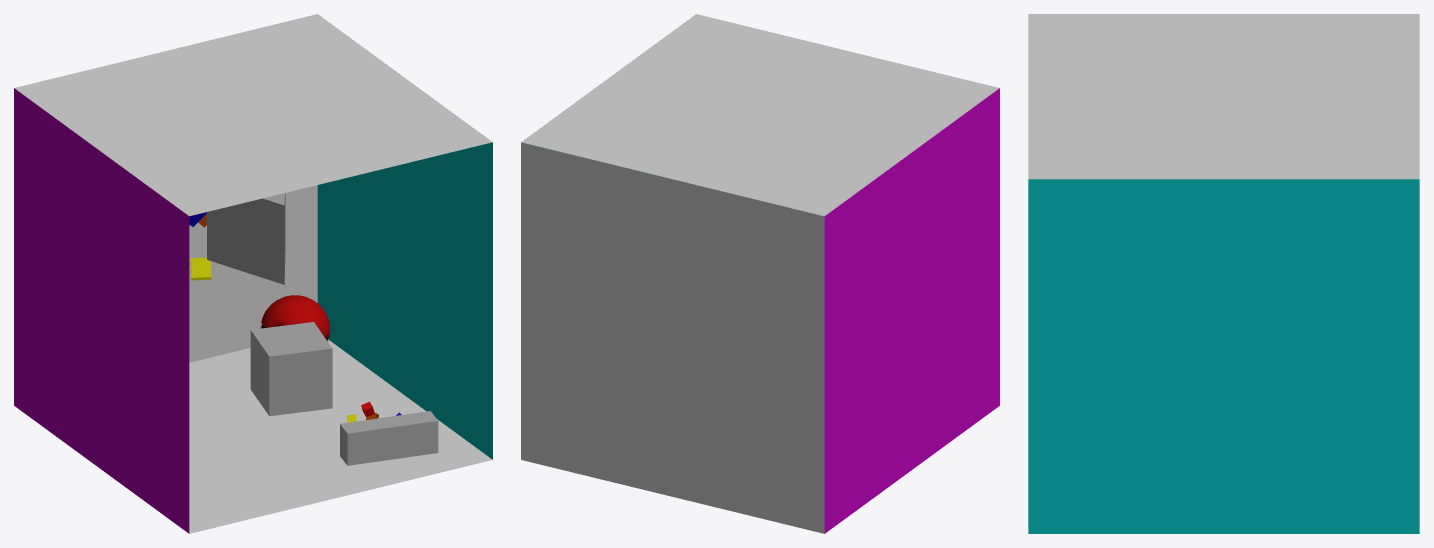
Rendered from finalscene.obj.
3 renders of one model, left to right at view 1: azimuth 30°, elevation 25°; view 2: azimuth 150°, elevation 25°; view 3: azimuth 270°, elevation 25°, orthographic. The views are drawn at different scales.
Visible parts, largest first — view 1: Plane_left_Plane.002, Plane_top_Plane.005, Plane_right_Plane.004, Plane_bottom_Plane, Plane_back_Plane.001, Cube.002, Prism_Cube.001, Cube.004, Sphere.004; view 2: Plane_back_Plane.001, Plane_left_Plane.002, Plane_top_Plane.005; view 3: Plane_right_Plane.004, Plane_top_Plane.005.
Boxes of the visible parts, x1,y1,x2,y2 form: Plane_left_Plane.002: (14, 88, 189, 533); Plane_top_Plane.005: (14, 14, 492, 216); Plane_right_Plane.004: (317, 142, 492, 459); Plane_bottom_Plane: (189, 340, 492, 533); Plane_back_Plane.001: (189, 185, 317, 362); Cube.002: (250, 322, 332, 416); Prism_Cube.001: (207, 193, 285, 284); Cube.004: (340, 411, 438, 465); Sphere.004: (260, 295, 330, 341); Plane_back_Plane.001: (521, 142, 824, 533); Plane_left_Plane.002: (824, 88, 999, 533); Plane_top_Plane.005: (521, 14, 999, 216); Plane_right_Plane.004: (1028, 179, 1419, 533); Plane_top_Plane.005: (1028, 14, 1419, 179).
Bounding box in the file's own units: 8 × 8 × 8.
